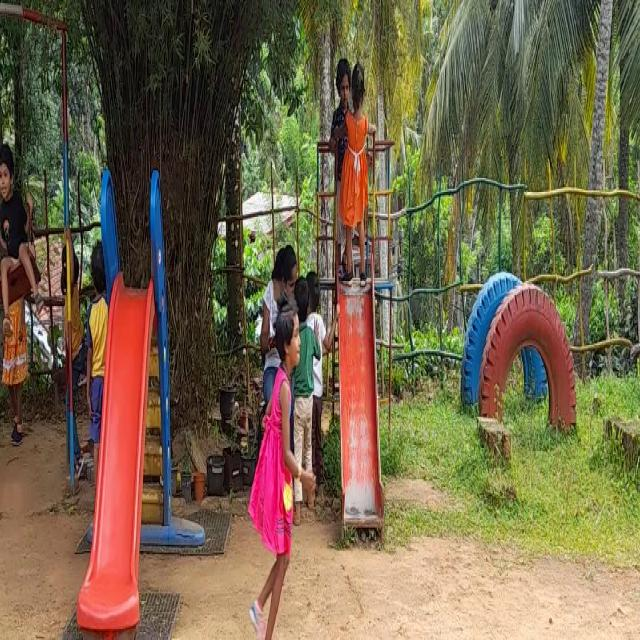child: (249, 304, 304, 640), (346, 57, 377, 285), (0, 143, 27, 316)
